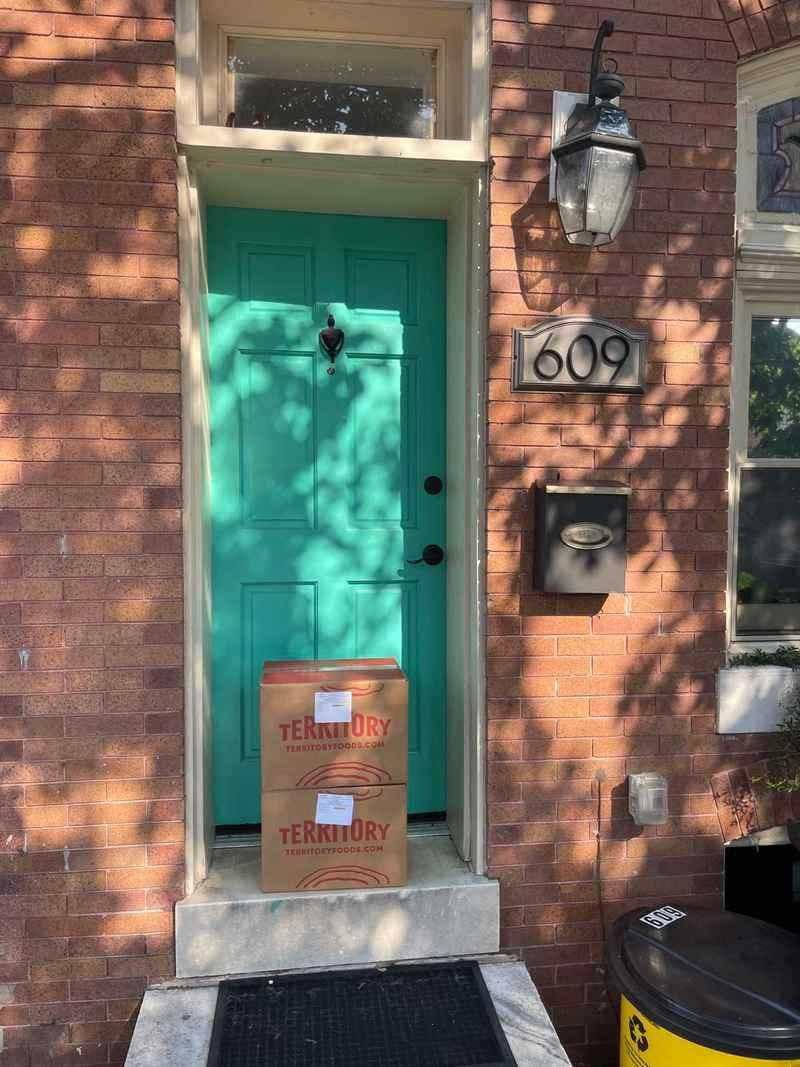package: (261, 660, 410, 788), (259, 789, 410, 889)
